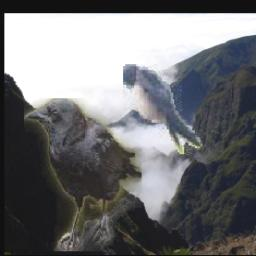Crow: (24, 98, 142, 251)
Swallow: (122, 64, 202, 155)
